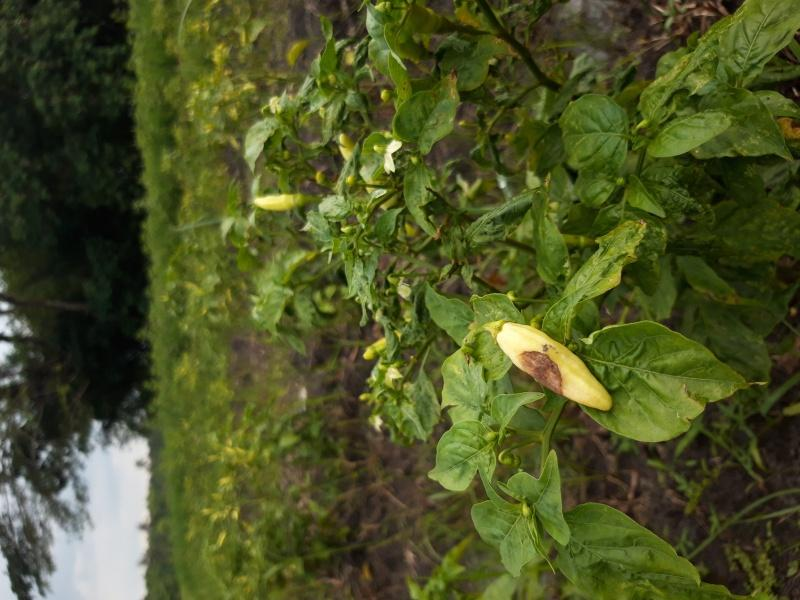antraknosa: (494, 321, 612, 411)
